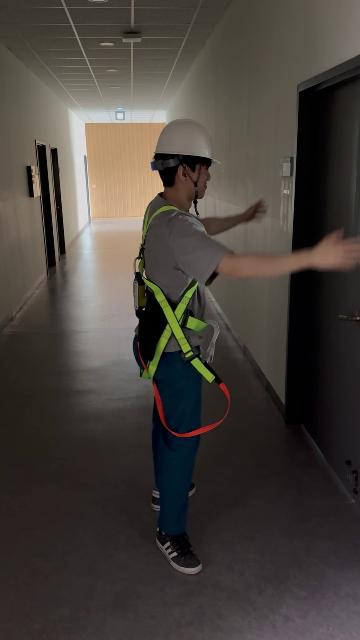helmet_worn: (150, 118, 222, 163)
shoe_not_worn: (155, 527, 201, 574), (151, 482, 194, 509)
vest_worn: (131, 202, 230, 432)
